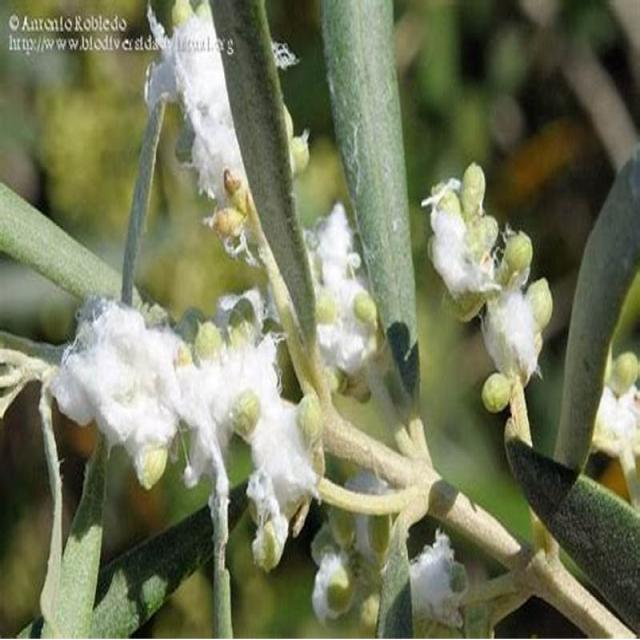Psyllid: (51, 300, 322, 570), (421, 162, 552, 439), (145, 0, 263, 267), (303, 203, 390, 398), (311, 510, 390, 634), (410, 528, 468, 635), (594, 351, 639, 474), (283, 104, 310, 178), (271, 39, 300, 69)
